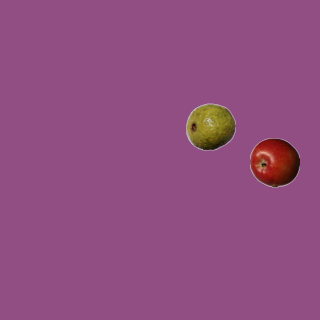Apple Braeburn: (249, 137, 299, 187)
Guava: (185, 101, 235, 151)
